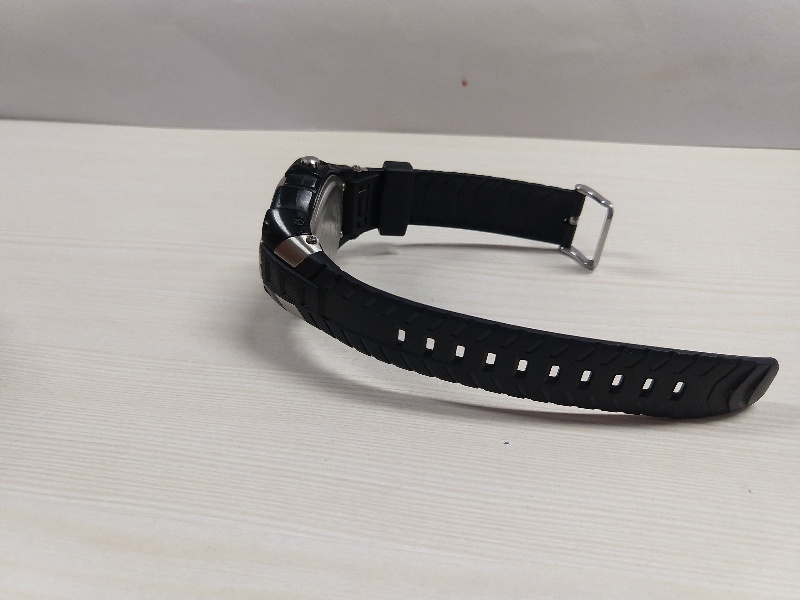watch: (257, 150, 781, 424)
